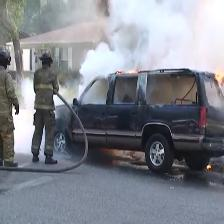smoke: (110, 2, 222, 68)
